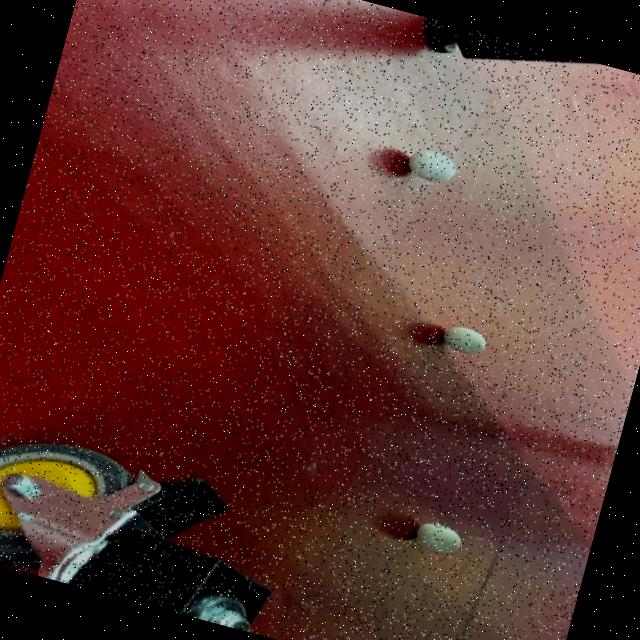ping-pong-ball: (409, 516, 466, 558), (402, 145, 459, 187), (436, 322, 491, 359)
